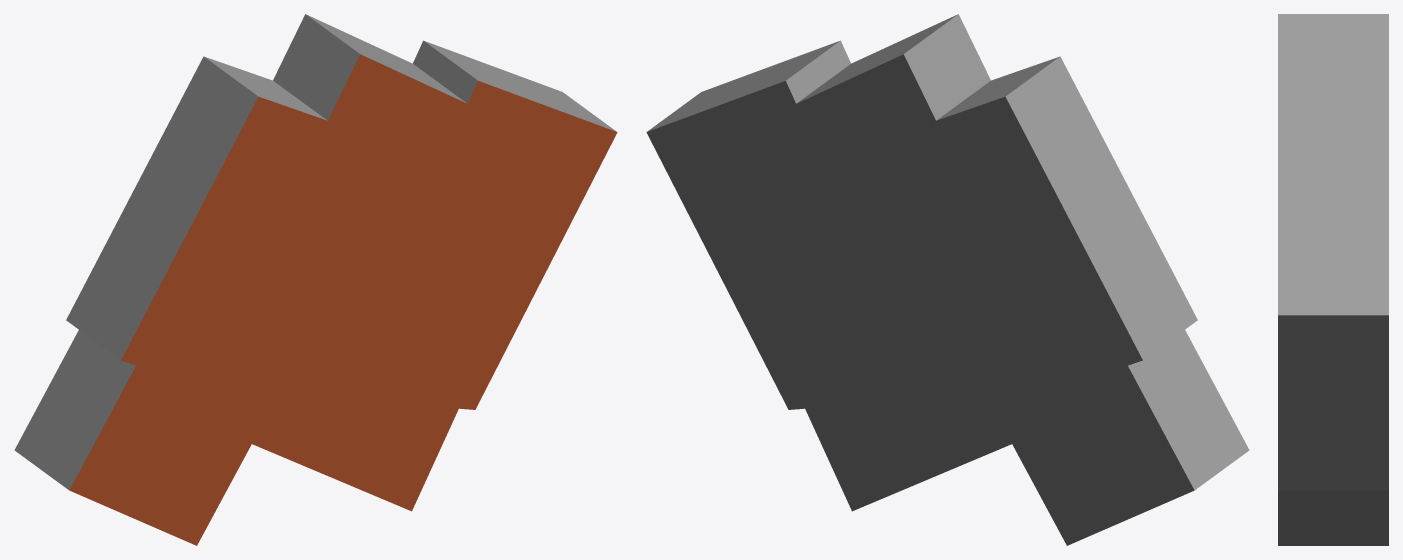
File: construction_1304_assumed_A_Casa_h6m.obj
3 views of the same model, side by side, from view 1: azimuth 30°, elevation 25°; view 2: azimuth 150°, elevation 25°; view 3: azimuth 270°, elevation 25° (orthographic).
Visible parts, largest first — view 1: construction_1304_assumed_A_Casa; view 2: construction_1304_assumed_A_Casa; view 3: construction_1304_assumed_A_Casa.
Part boxes in pixels (x1,y1,x2,y2): construction_1304_assumed_A_Casa: [14, 14, 617, 545]; construction_1304_assumed_A_Casa: [646, 14, 1249, 545]; construction_1304_assumed_A_Casa: [1278, 14, 1388, 545].
Bounding box in the file's own units: 34.55 × 28.29 × 6.
